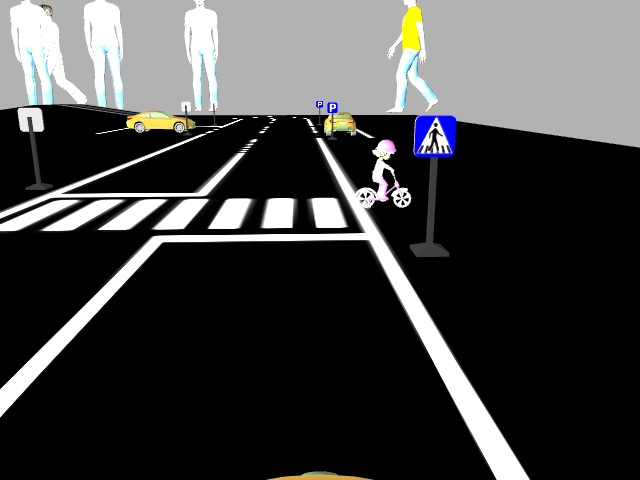Crosswalk: (414, 113, 454, 157)
Parking: (326, 99, 336, 114)
Pedestrian: (351, 136, 413, 209)
